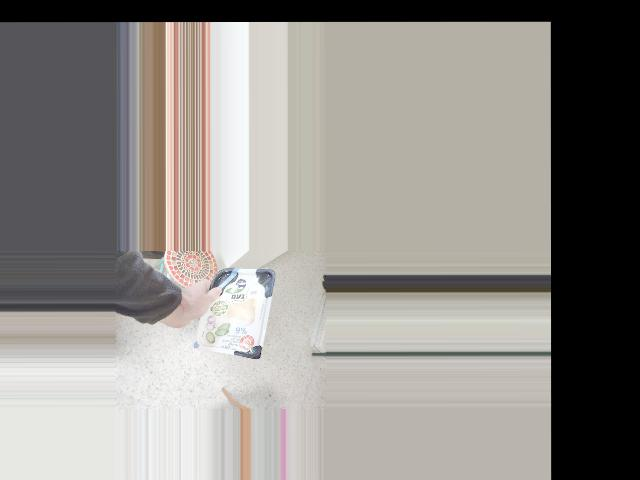cheese: (181, 282, 252, 350)
